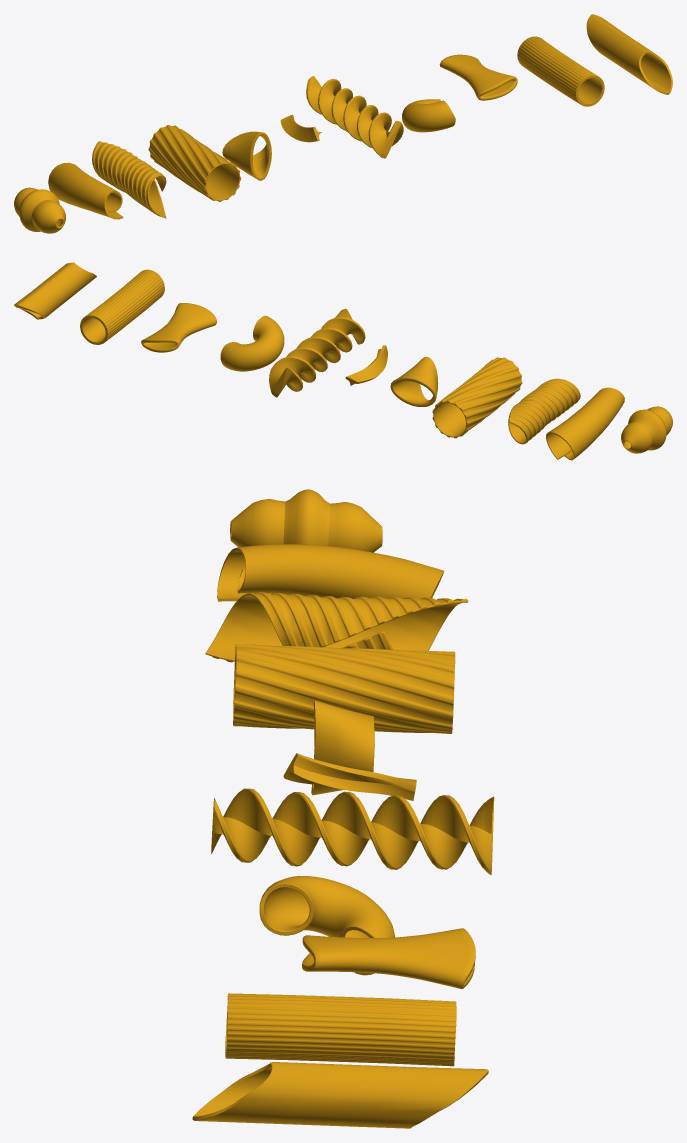
3 views of the same model, one above another, from view 1: azimuth 30°, elevation 25°; view 2: azimuth 150°, elevation 25°; view 3: azimuth 270°, elevation 25° (orthographic). The views are drawn at different scales.
Parts seen in each view (by area): view 1: Цилиндр.013_Цилиндр.547, Плоскость.002_Плоскость.363, Цилиндр.001_Цилиндр.543, Куб.002_Куб.095, Плоскость.004_Плоскость.364, Плоскость.006_Плоскость.365, Цилиндр.003_Цилиндр.545, Цилиндр.014_Цилиндр.548, Цилиндр.005_Цилиндр.546, Цилиндр.002_Цилиндр.544, Плоскость.001_Плоскость.362; view 2: Цилиндр.013_Цилиндр.547, Плоскость.002_Плоскость.363, Цилиндр.001_Цилиндр.543, Плоскость.006_Плоскость.365, Плоскость.004_Плоскость.364, Цилиндр.002_Цилиндр.544, Куб.002_Куб.095, Цилиндр.003_Цилиндр.545, Цилиндр.014_Цилиндр.548, Цилиндр.005_Цилиндр.546, Плоскость.001_Плоскость.362; view 3: Цилиндр.013_Цилиндр.547, Плоскость.002_Плоскость.363, Цилиндр.001_Цилиндр.543, Куб.002_Куб.095, Плоскость.004_Плоскость.364, Плоскость.006_Плоскость.365, Цилиндр.003_Цилиндр.545, Цилиндр.014_Цилиндр.548, Цилиндр.002_Цилиндр.544, Цилиндр.005_Цилиндр.546, Плоскость.001_Плоскость.362.
Boxes of the visible parts, x1,y1,x2,y2 form: Цилиндр.013_Цилиндр.547: (148,125,241,201); Плоскость.002_Плоскость.363: (306,76,403,158); Цилиндр.001_Цилиндр.543: (517,36,604,106); Куб.002_Куб.095: (586,14,672,94); Плоскость.004_Плоскость.364: (92,141,166,218); Плоскость.006_Плоскость.365: (48,162,123,219); Цилиндр.003_Цилиндр.545: (439,54,517,100); Цилиндр.014_Цилиндр.548: (14,187,65,233); Цилиндр.005_Цилиндр.546: (222,131,271,180); Цилиндр.002_Цилиндр.544: (402,99,455,132); Плоскость.001_Плоскость.362: (280,114,321,142); Цилиндр.013_Цилиндр.547: (432,357,522,438); Плоскость.002_Плоскость.363: (269,309,365,397); Цилиндр.001_Цилиндр.543: (80,269,164,344); Плоскость.006_Плоскость.365: (546,387,624,460); Плоскость.004_Плоскость.364: (508,378,580,444); Цилиндр.002_Цилиндр.544: (220,315,284,371); Куб.002_Куб.095: (14,262,96,319); Цилиндр.003_Цилиндр.545: (141,303,216,352); Цилиндр.014_Цилиндр.548: (621,406,672,453); Цилиндр.005_Цилиндр.546: (390,356,438,406); Плоскость.001_Плоскость.362: (345,345,387,385); Цилиндр.013_Цилиндр.547: (233,644,455,733); Плоскость.002_Плоскость.363: (211,788,494,874); Цилиндр.001_Цилиндр.543: (225,993,456,1066); Куб.002_Куб.095: (192,1062,488,1128); Плоскость.004_Плоскость.364: (205,592,468,662); Плоскость.006_Плоскость.365: (217,544,443,601); Цилиндр.003_Цилиндр.545: (302,928,475,988); Цилиндр.014_Цилиндр.548: (230,489,382,552); Цилиндр.002_Цилиндр.544: (259,876,394,975); Цилиндр.005_Цилиндр.546: (311,700,374,795); Плоскость.001_Плоскость.362: (283,753,416,800).
Size of the model in its own units: 0.2335 by 0.0185 by 0.0496.
